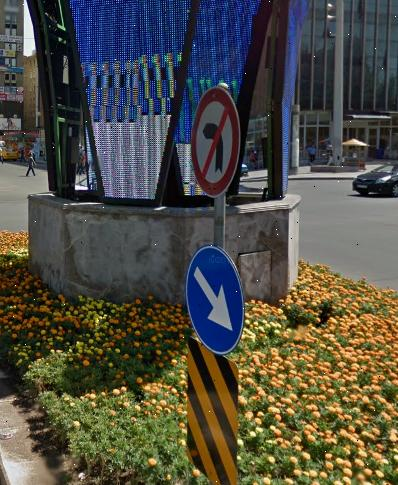leftturnsareforbidden: (189, 86, 247, 199)
